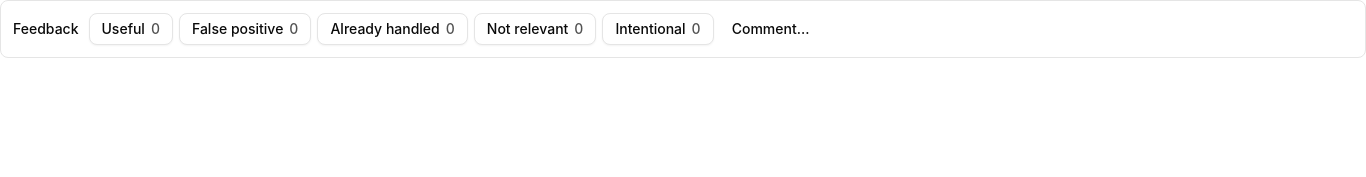
Test case: feedback › saves the verdict with a comment and keeps it
The image size is (1366, 177).
Check: the button named "Useful0" is shown, box [88,13,173,45]
Click the button "Comment…" at point(771, 29), box [720,13,822,45]
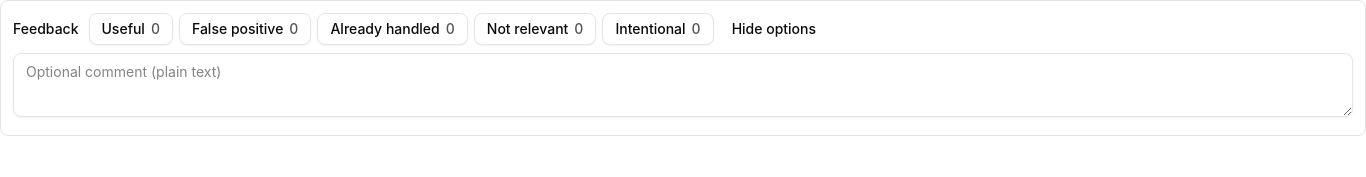
Type "<b>not html</b>" into the text box named "Feedback comment" at point(683, 85), box [13,53,1353,117]
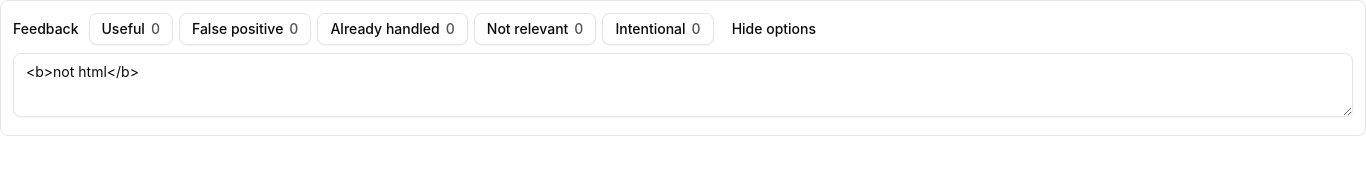
Click the button "Already handled 0" at point(393, 29), box [317,13,468,45]
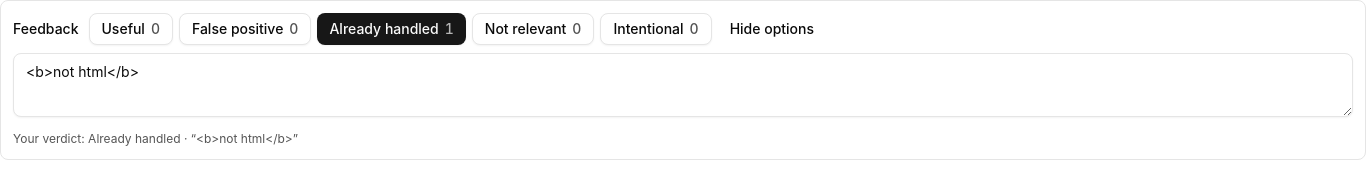
Check: the text "Your verdict: Already handled · “<b>not html</b>”" is shown, box [13,131,298,146]
